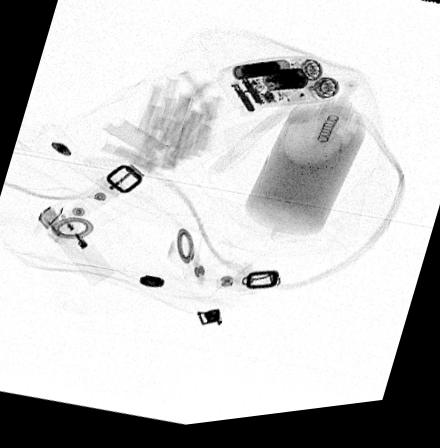Lighter: (37, 202, 114, 285)
